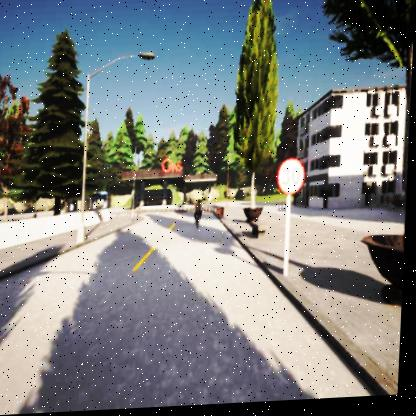motobike: (194, 202, 205, 229)
